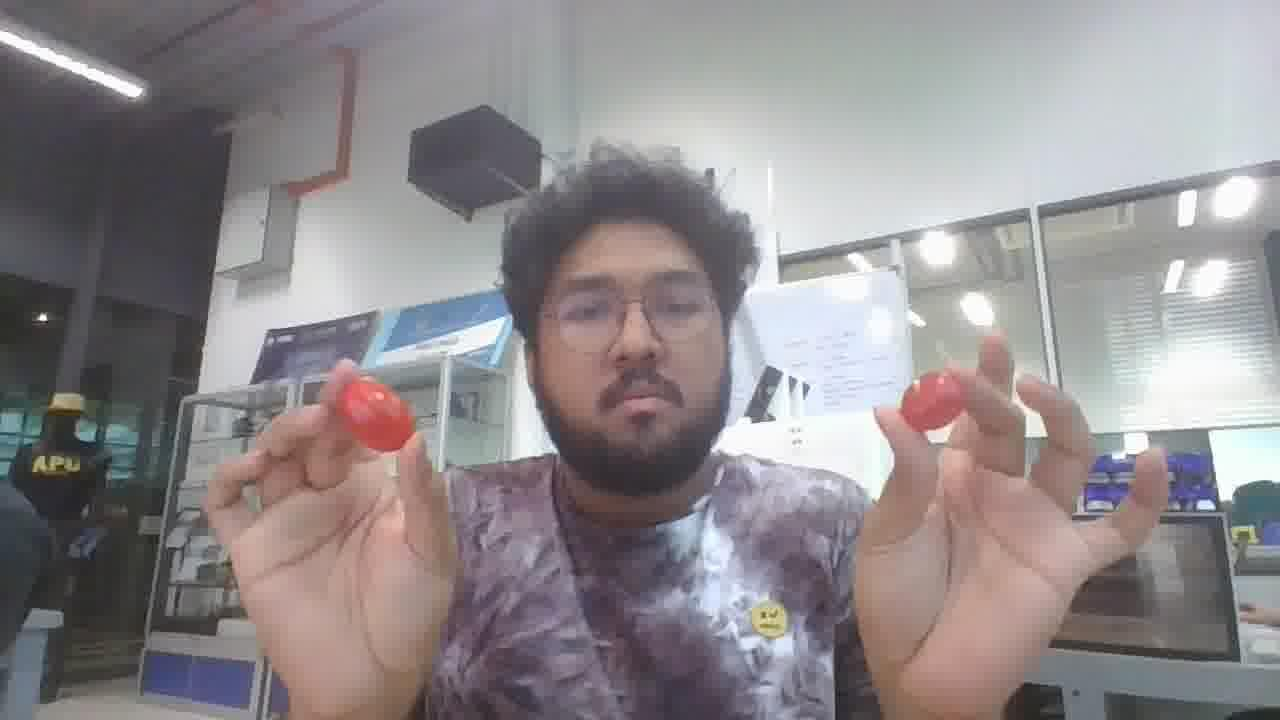red_cherry_tomato: (338, 379, 414, 451), (900, 372, 964, 431), (387, 409, 388, 410)
